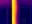Hotspot: (12, 0, 16, 23)
